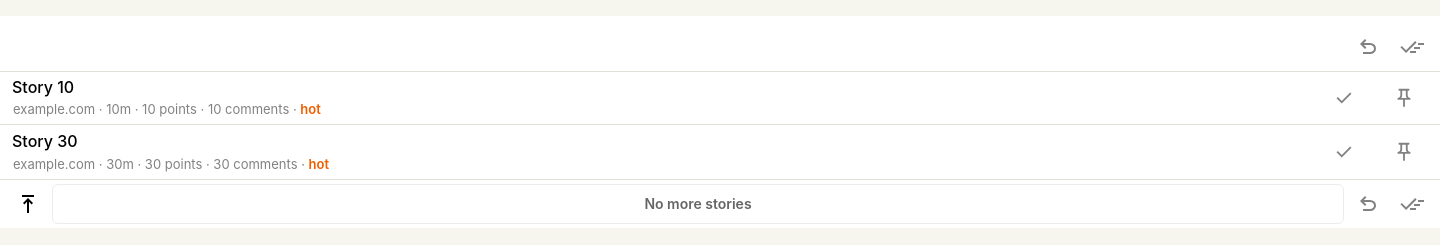
<StoryList> hidden-story handling › rubber-bands on swipe-right on a pinned row: tracks finger during drag, snaps back on release
Later steps or results of the test are not shown.
Press the mouse on the element with test id "story-row" that starts with "Story 10": (720, 98) top-left (0, 71), bottom-right (1439, 124)
Wait 300 ms
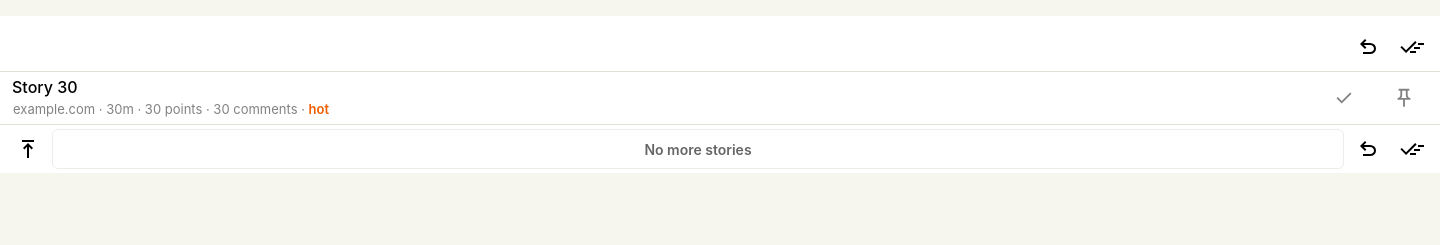
Now the text "Story 10 example.com · 10m · 10 points · 10 comments · hot" does not have class "story-row--dragging"
